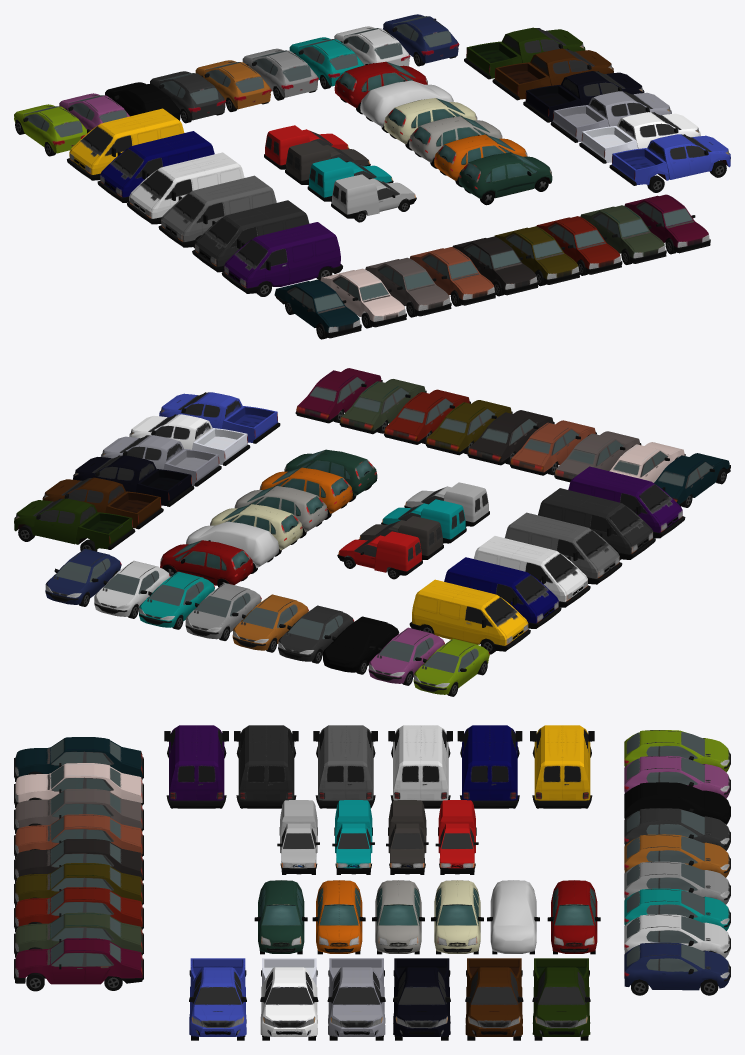
The model's file is autos_LP_pack.obj.
3 renders of one model, top to bottom at view 1: azimuth 30°, elevation 25°; view 2: azimuth 150°, elevation 25°; view 3: azimuth 270°, elevation 25°, orthographic. The views are drawn at different scales.
Parts seen in each view (by area): view 1: carroceria Renault_Traffic_6, carroceria Renault_Traffic_4, carroceria Renault_Traffic_3, carroceria Renault_Traffic_1, carroceria Renault_Traffic_5, carroceria Renault_Traffic_2, carroceria chevrolet_meriva_6, carroceria Peugeot_505_1, carroceria Peugeot_505_2, Toyota_Hilux cabina Carroceria, carroceria Peugeot_505_3, carroceria Peugeot_505_8 (+34 smaller); view 2: carroceria Renault_Traffic_1, carroceria Renault_Traffic_5, carroceria Renault_Traffic_4, carroceria Renault_Traffic_2, carroceria Renault_Traffic_6, carroceria Renault_Traffic_3, carroceria chevrolet_meriva_1, carroceria peugeot_207_10, carroceria peugeot_207_1, carroceria peugeot_207_4, carroceria peugeot_207_3, carroceria peugeot_207_8 (+34 smaller); view 3: carroceria Peugeot_505_9, carroceria Renault_Traffic_1, carroceria Renault_Traffic_5, carroceria peugeot_207_1, carroceria Renault_Traffic_6, carroceria Renault_Traffic_2, carroceria Renault_Traffic_4, carroceria Renault_Traffic_3, Toyota_Hilux_1 cabina Carroceria, Toyota_Hilux_2 cabina Carroceria, Toyota_Hilux_4 cabina Carroceria, Toyota_Hilux_5 cabina Carroceria (+36 smaller).
Boxes of the visible parts, <box> form: carroceria Renault_Traffic_6: <box>224,222,340,288</box>; carroceria Renault_Traffic_4: <box>161,175,276,241</box>; carroceria Renault_Traffic_3: <box>129,152,244,218</box>; carroceria Renault_Traffic_1: <box>69,108,184,174</box>; carroceria Renault_Traffic_5: <box>194,200,309,266</box>; carroceria Renault_Traffic_2: <box>100,131,214,197</box>; carroceria chevrolet_meriva_6: <box>458,152,552,199</box>; carroceria Peugeot_505_1: <box>275,279,360,332</box>; carroceria Peugeot_505_2: <box>320,268,405,321</box>; Toyota_Hilux cabina Carroceria: <box>647,134,730,179</box>; carroceria Peugeot_505_3: <box>365,257,450,310</box>; carroceria Peugeot_505_8: <box>580,205,665,258</box>; carroceria Renault_Traffic_1: <box>412,579,528,645</box>; carroceria Renault_Traffic_5: <box>538,488,653,554</box>; carroceria Renault_Traffic_4: <box>505,512,619,578</box>; carroceria Renault_Traffic_2: <box>444,557,558,623</box>; carroceria Renault_Traffic_6: <box>568,466,682,532</box>; carroceria Renault_Traffic_3: <box>473,536,587,601</box>; carroceria chevrolet_meriva_1: <box>160,540,253,585</box>; carroceria peugeot_207_10: <box>413,638,489,694</box>; carroceria peugeot_207_1: <box>45,549,121,604</box>; carroceria peugeot_207_4: <box>185,583,261,639</box>; carroceria peugeot_207_3: <box>139,571,214,627</box>; carroceria peugeot_207_8: <box>323,616,399,672</box>; carroceria Peugeot_505_9: <box>15,938,142,984</box>; carroceria Renault_Traffic_1: <box>534,725,590,800</box>; carroceria Renault_Traffic_5: <box>238,725,294,800</box>; carroceria peugeot_207_1: <box>624,942,730,990</box>; carroceria Renault_Traffic_6: <box>169,725,224,800</box>; carroceria Renault_Traffic_2: <box>462,725,517,800</box>; carroceria Renault_Traffic_4: <box>318,725,373,800</box>; carroceria Renault_Traffic_3: <box>393,725,448,800</box>; Toyota_Hilux_1 cabina Carroceria: <box>260,967,317,1036</box>; Toyota_Hilux_2 cabina Carroceria: <box>328,967,385,1036</box>; Toyota_Hilux_4 cabina Carroceria: <box>465,967,522,1036</box>; Toyota_Hilux_5 cabina Carroceria: <box>532,967,590,1036</box>.
Bounding box in the file's own units: 30.8 × 2.62 × 32.36.
